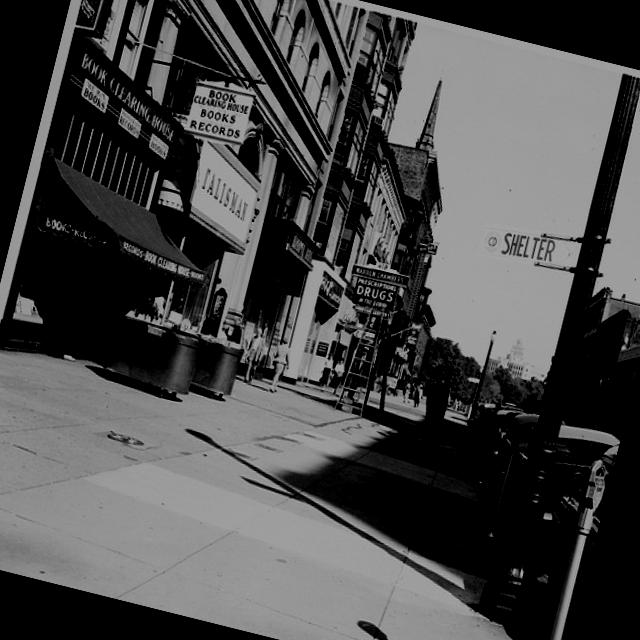Vehicle: (513, 419, 622, 640), (498, 412, 620, 558), (471, 398, 526, 492), (488, 408, 538, 490)
